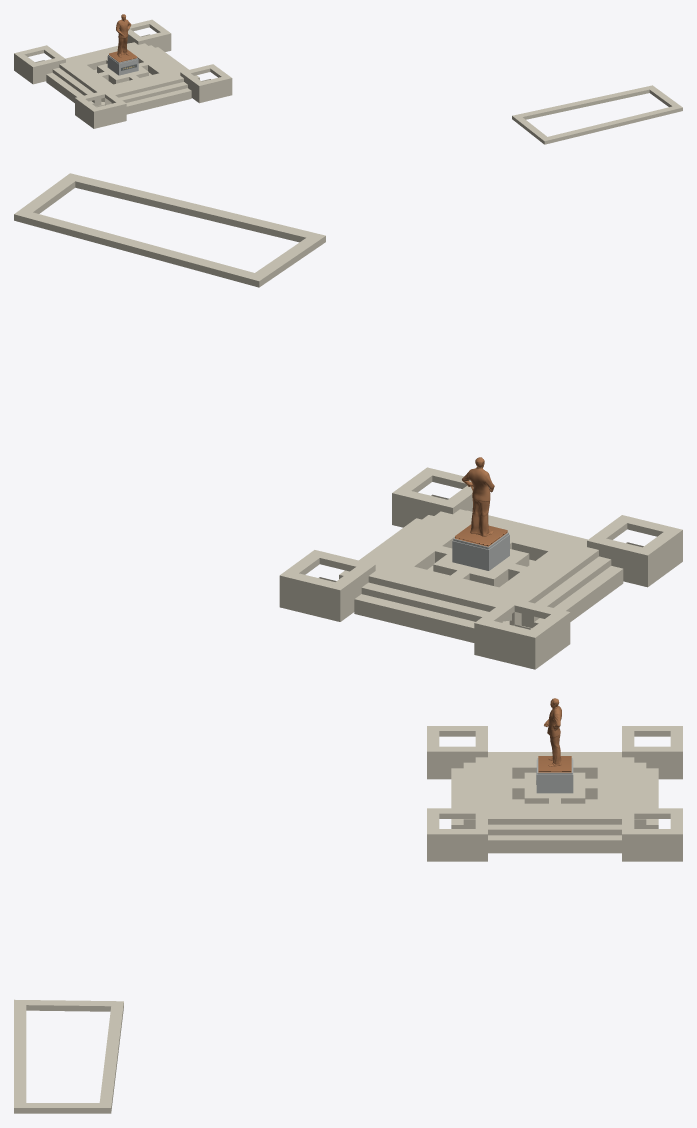
The picture shows the model from 3 angles, top to bottom: view 1: azimuth 30°, elevation 25°; view 2: azimuth 150°, elevation 25°; view 3: azimuth 270°, elevation 25°; orthographic projection. The views are drawn at different scales.
Parts seen in each view (by area): view 1: buildings_s_-1_3_Warm_Limestone, buildings_s_-1_3_Zhou_Statue_Cast_Bronze, buildings_s_-1_3_Zhou_Statue_Gray_Granite; view 2: buildings_s_-1_3_Warm_Limestone, buildings_s_-1_3_Zhou_Statue_Cast_Bronze, buildings_s_-1_3_Zhou_Statue_Gray_Granite; view 3: buildings_s_-1_3_Warm_Limestone, buildings_s_-1_3_Zhou_Statue_Cast_Bronze, buildings_s_-1_3_Zhou_Statue_Gray_Granite.
Boxes of the visible parts, <box> form: buildings_s_-1_3_Warm_Limestone: <box>14,19,682,144</box>; buildings_s_-1_3_Zhou_Statue_Cast_Bronze: <box>109,14,137,62</box>; buildings_s_-1_3_Zhou_Statue_Gray_Granite: <box>107,54,138,75</box>; buildings_s_-1_3_Warm_Limestone: <box>14,173,682,669</box>; buildings_s_-1_3_Zhou_Statue_Cast_Bronze: <box>455,457,507,546</box>; buildings_s_-1_3_Zhou_Statue_Gray_Granite: <box>452,532,509,570</box>; buildings_s_-1_3_Warm_Limestone: <box>14,726,682,1113</box>; buildings_s_-1_3_Zhou_Statue_Cast_Bronze: <box>538,698,571,772</box>; buildings_s_-1_3_Zhou_Statue_Gray_Granite: <box>536,758,573,793</box>.
Size of the model in its own units: 69.88 by 10.07 by 54.88.
